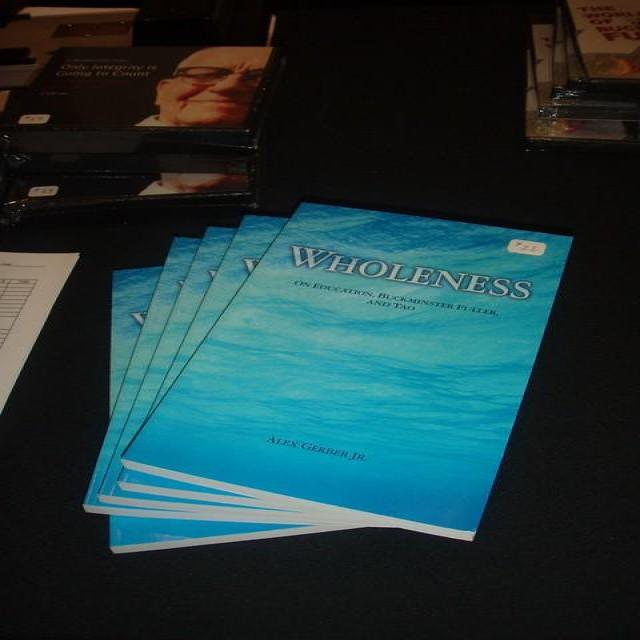paper: (81, 197, 581, 554), (0, 42, 280, 223), (0, 251, 83, 411)
